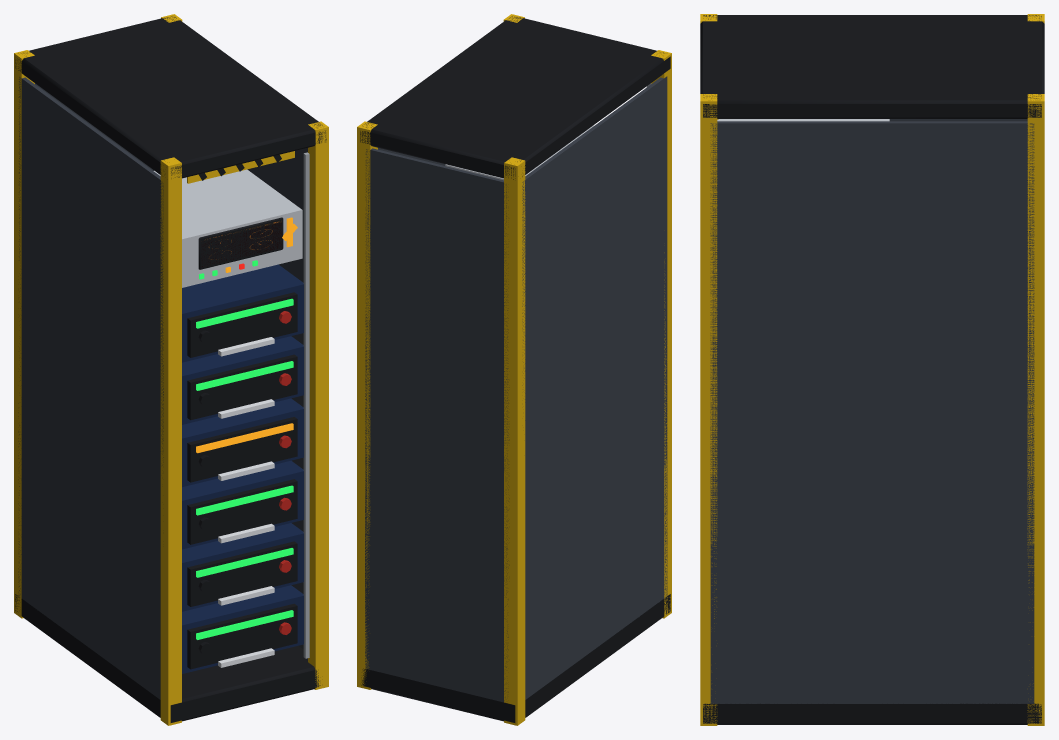
Rendered from rack_ups_battery_rack.glb.
The picture shows the model from 3 angles, left to right: view 1: azimuth 30°, elevation 25°; view 2: azimuth 150°, elevation 25°; view 3: azimuth 270°, elevation 25°; orthographic projection. The views are drawn at different scales.
Parts seen in each view (by area): view 1: rack_ups_battery_rack; view 2: rack_ups_battery_rack; view 3: rack_ups_battery_rack.
Boxes of the visible parts, x1,y1,x2,y2 form: rack_ups_battery_rack: [14, 14, 328, 725]; rack_ups_battery_rack: [357, 14, 671, 725]; rack_ups_battery_rack: [700, 14, 1044, 725].
Size of the model in its own units: 0.6 by 2 by 1.
12 materials, 1 textured.
